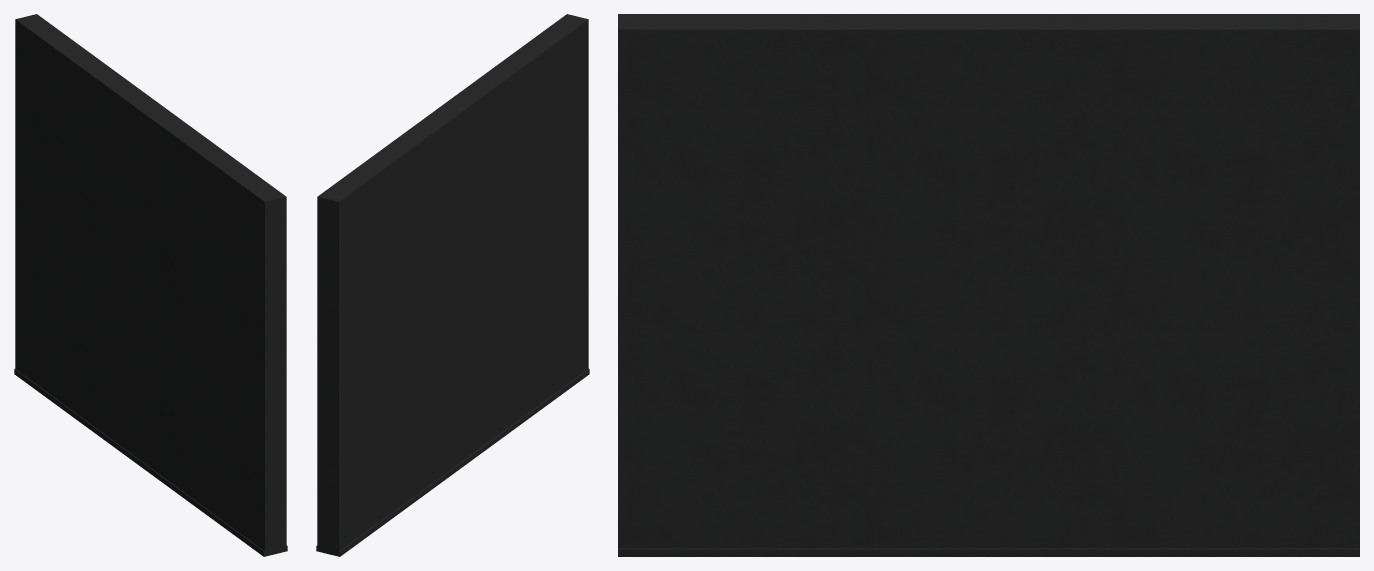
File: SM_Inner_Wall_04.glb
3 views of the same model, side by side, from view 1: azimuth 30°, elevation 25°; view 2: azimuth 150°, elevation 25°; view 3: azimuth 270°, elevation 25° (orthographic). The views are drawn at different scales.
Parts seen in each view (by area): view 1: SM_Inner_Wall_03; view 2: SM_Inner_Wall_03; view 3: SM_Inner_Wall_03.
Boxes of the visible parts, x1,y1,x2,y2 form: SM_Inner_Wall_03: (14,14,287,556); SM_Inner_Wall_03: (316,14,589,556); SM_Inner_Wall_03: (618,14,1359,556).
Size of the model in its own units: 0.33 by 4.7 by 6.
1 material, 1 textured.
